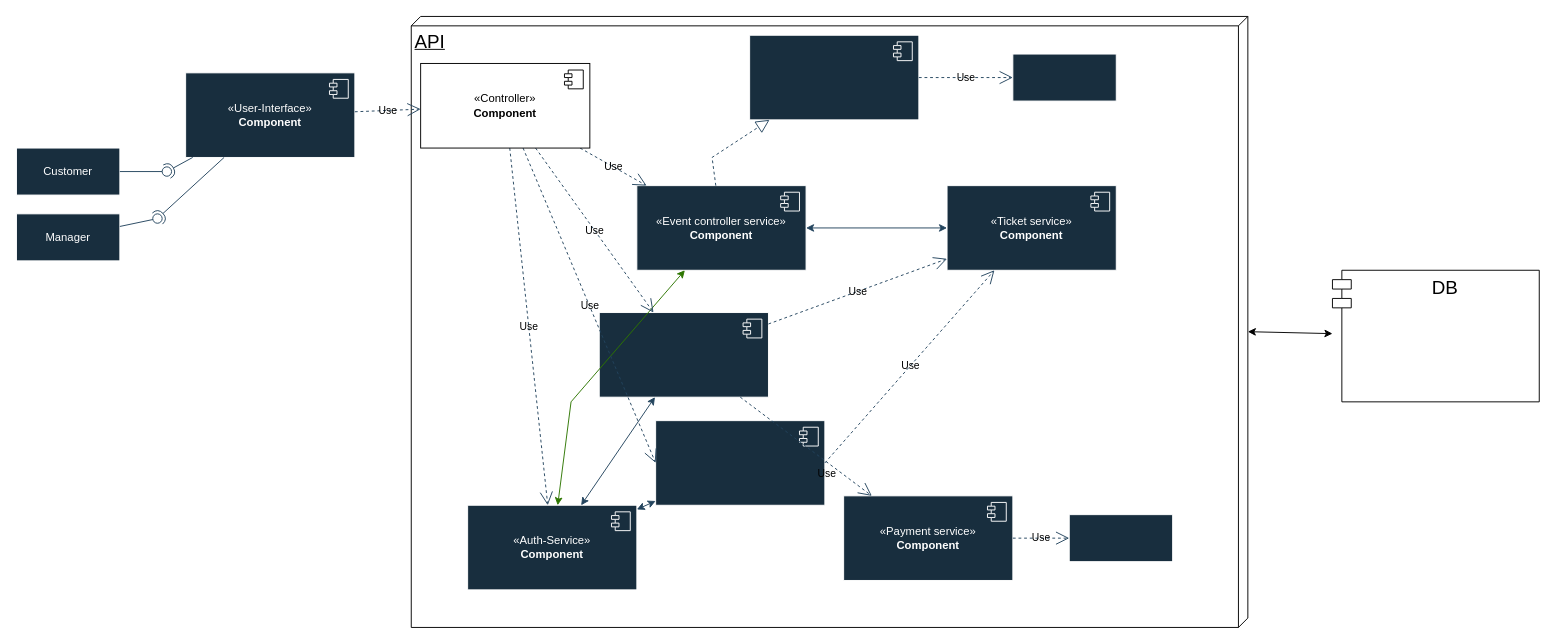
Some shapes in this 1556 by 644 pixel diagram are drawn without their labels. Each missing label, with the centre of its shape:
"« Cart service» Component" goes at [683,354].
"« Venue service» Component" goes at [740,462].
"«Notification 3d -pt»" goes at [1064,77].
"«Notification service» Component" goes at [834,77].
"«Payment 3d -pt»" goes at [1120,538].
